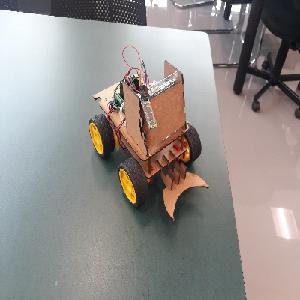Robot: (87, 58, 209, 222)
